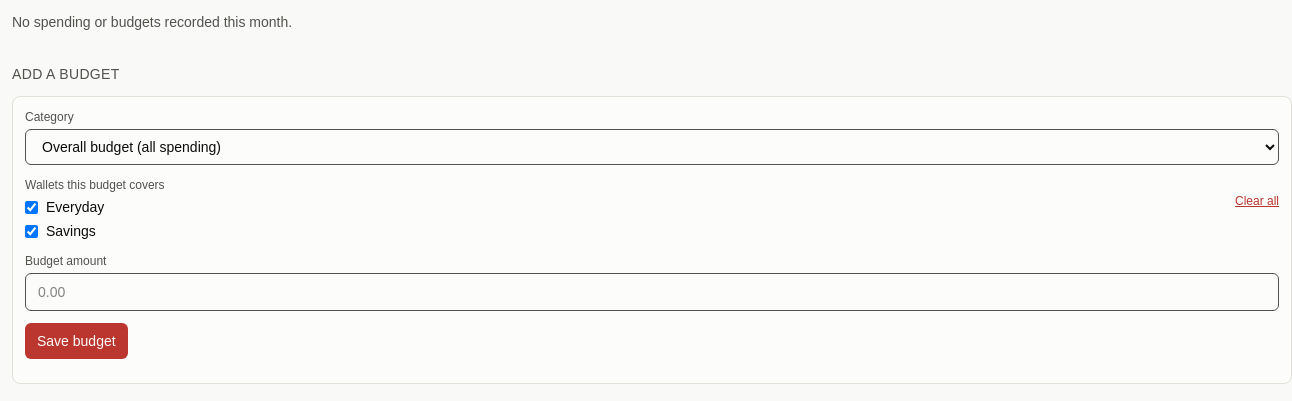
Scenario: BudgetList — select all / clear all in the wallet picker › clears every wallet when pressed with all checked
Click the button "Clear all": click(1257, 201) [1235,193,1279,209]
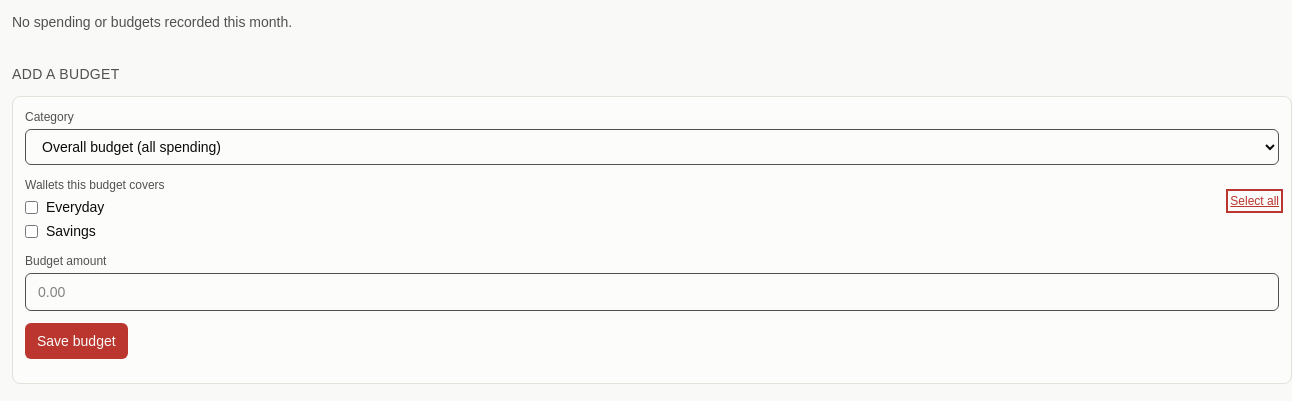
Expected: the checkbox labelled "Everyday" is not checked, [25,200,38,214]
Expected: the checkbox labelled "Savings" is not checked, [25,224,38,238]
